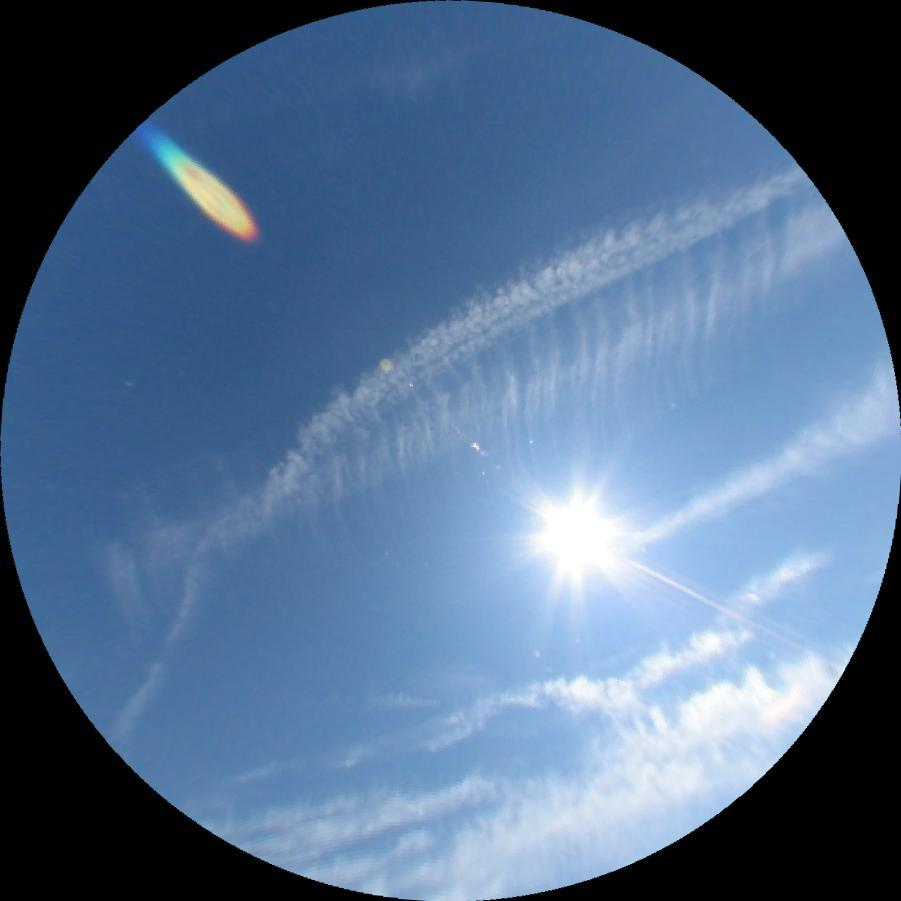contrail veryold: (23, 70, 813, 751), (70, 179, 884, 650)
parasite: (603, 548, 846, 678)
sun: (542, 505, 617, 573)
